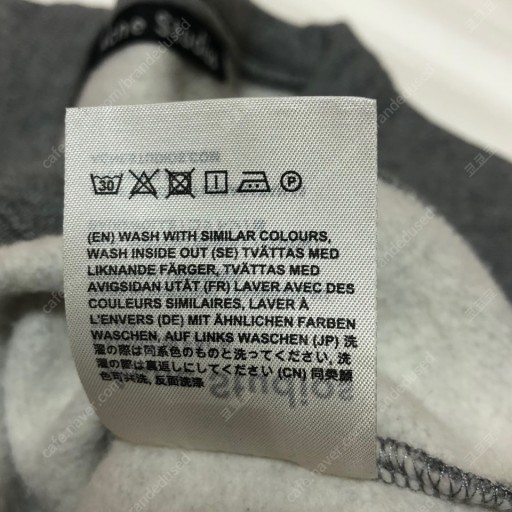ER_dry_clean_chemical: (278, 163, 304, 195)
ER_flat_dry: (202, 166, 230, 198)
ER_iron_medium_temp: (234, 165, 271, 196)
ER_no_bleach: (127, 165, 159, 198)
ER_no_tumble_dry: (165, 165, 196, 198)
ER_wash_30: (89, 166, 123, 199)
